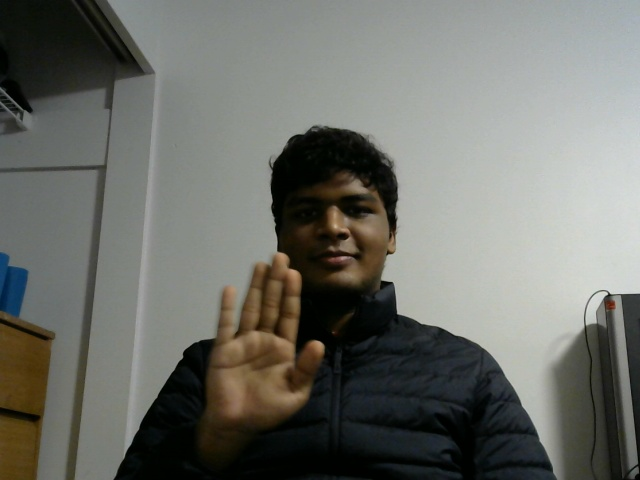Hi: (208, 246, 328, 435)
